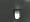person: (15, 7, 23, 19)
